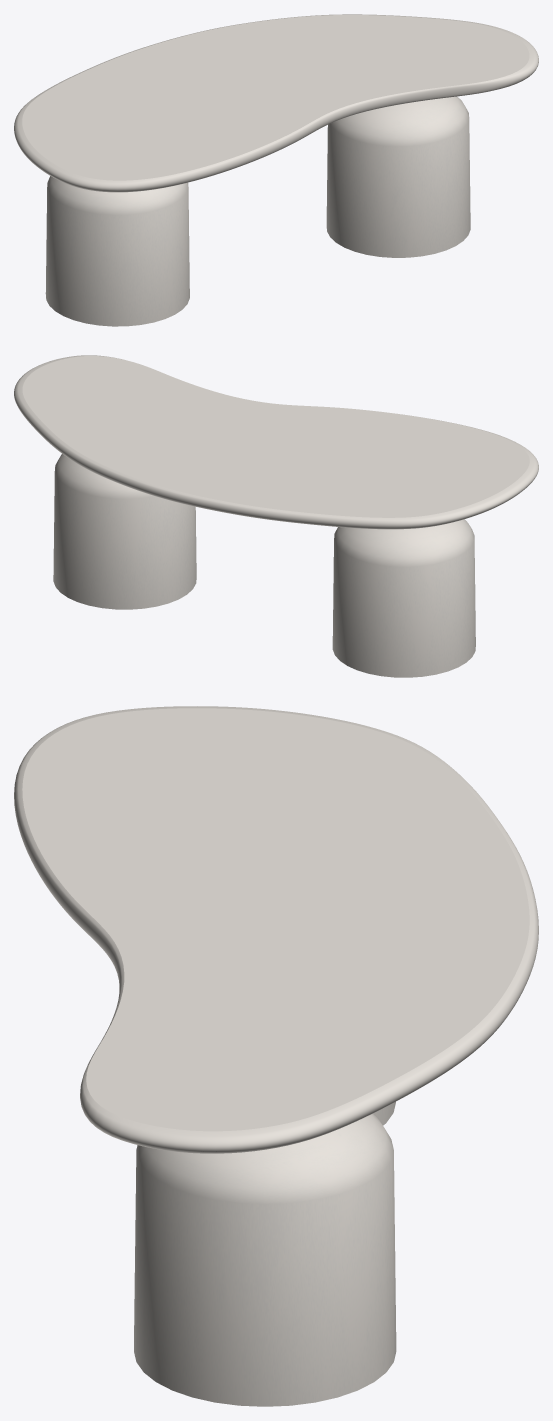
The model's file is pearlwhite_leaf1_round_tornado.glb.
3 views of the same model, one above another, from view 1: azimuth 30°, elevation 25°; view 2: azimuth 150°, elevation 25°; view 3: azimuth 270°, elevation 25° (orthographic). The views are drawn at different scales.
Parts seen in each view (by area): view 1: round_leaf1, tornado; view 2: round_leaf1, tornado; view 3: round_leaf1, tornado.
Boxes of the visible parts, x1=… form: round_leaf1: x1=14, y1=14, x2=538, y2=192; tornado: x1=45, y1=96, x2=470, y2=326; round_leaf1: x1=14, y1=355, x2=538, y2=529; tornado: x1=53, y1=454, x2=475, y2=677; round_leaf1: x1=14, y1=706, x2=538, y2=1153; tornado: x1=134, y1=1102, x2=396, y2=1406.
Size of the model in its own units: 7.5 by 2.51 by 3.8.
Materials: 1 (1 with a texture image).
